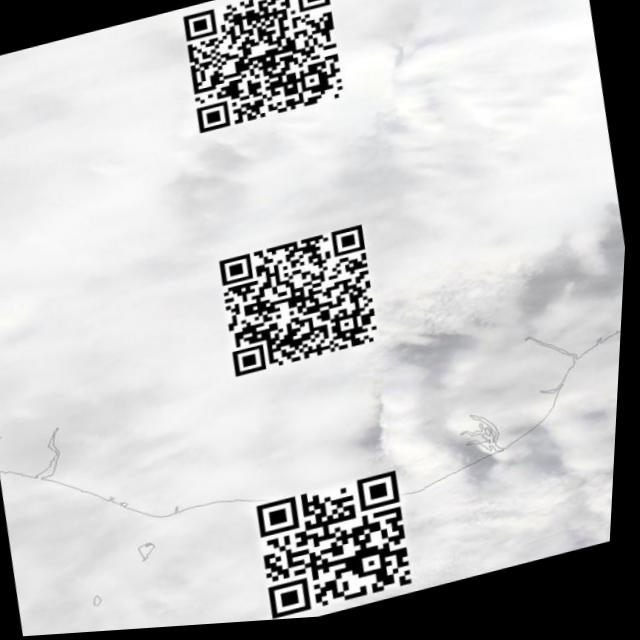qrcode: (218, 230, 388, 382), (258, 477, 424, 626), (179, 1, 350, 138)
